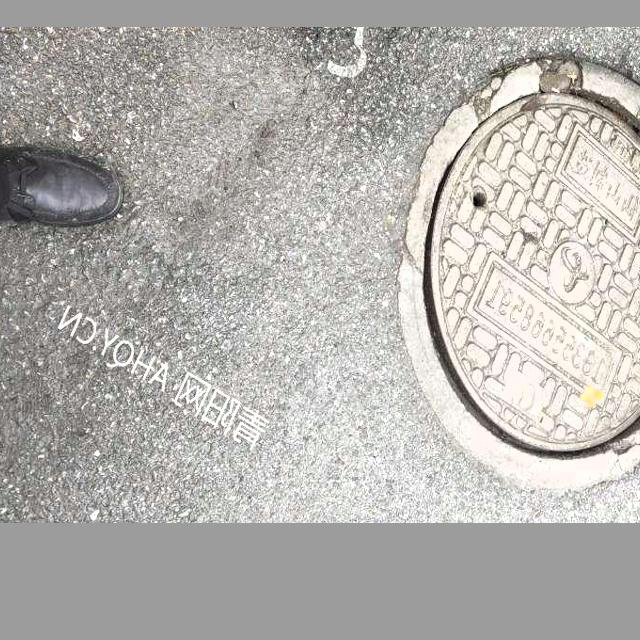circle: (378, 53, 640, 487)
